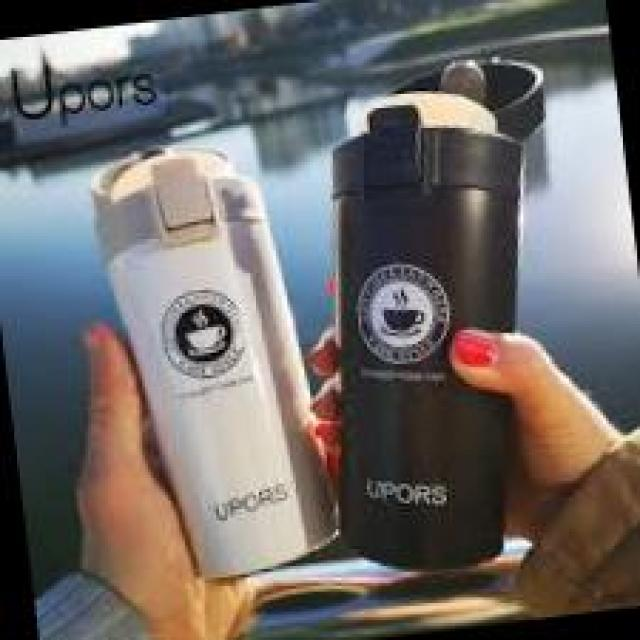bottle: (287, 42, 600, 578), (70, 123, 346, 584)
